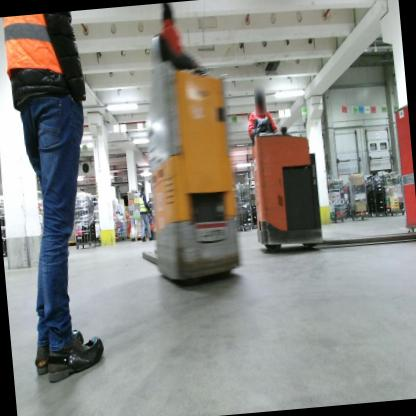pallet: (129, 234, 143, 243)
pallet_truck: (119, 54, 250, 280), (244, 101, 416, 266), (142, 189, 163, 244)
